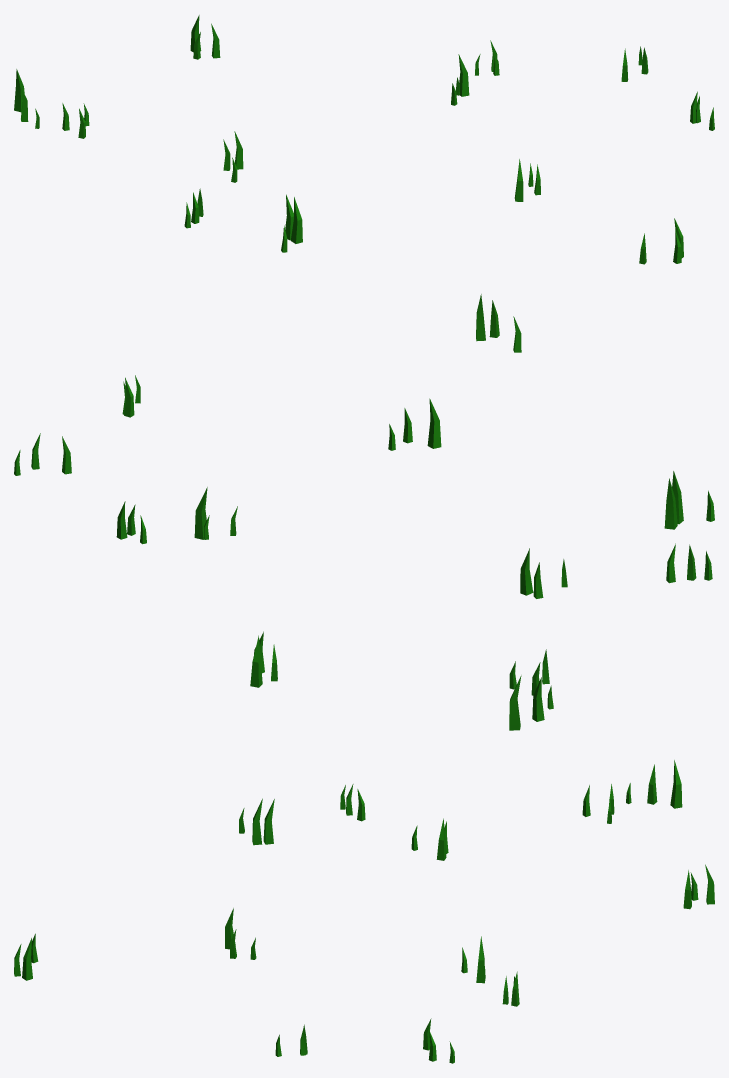
The model's file is Grass Cluster 3.fbx.
3 views of the same model, one above another, from view 1: azimuth 30°, elevation 25°; view 2: azimuth 150°, elevation 25°; view 3: azimuth 270°, elevation 25° (orthographic). The views are drawn at different scales.
Size of the model in its own units: 6.85 by 0.5488 by 7.7.
